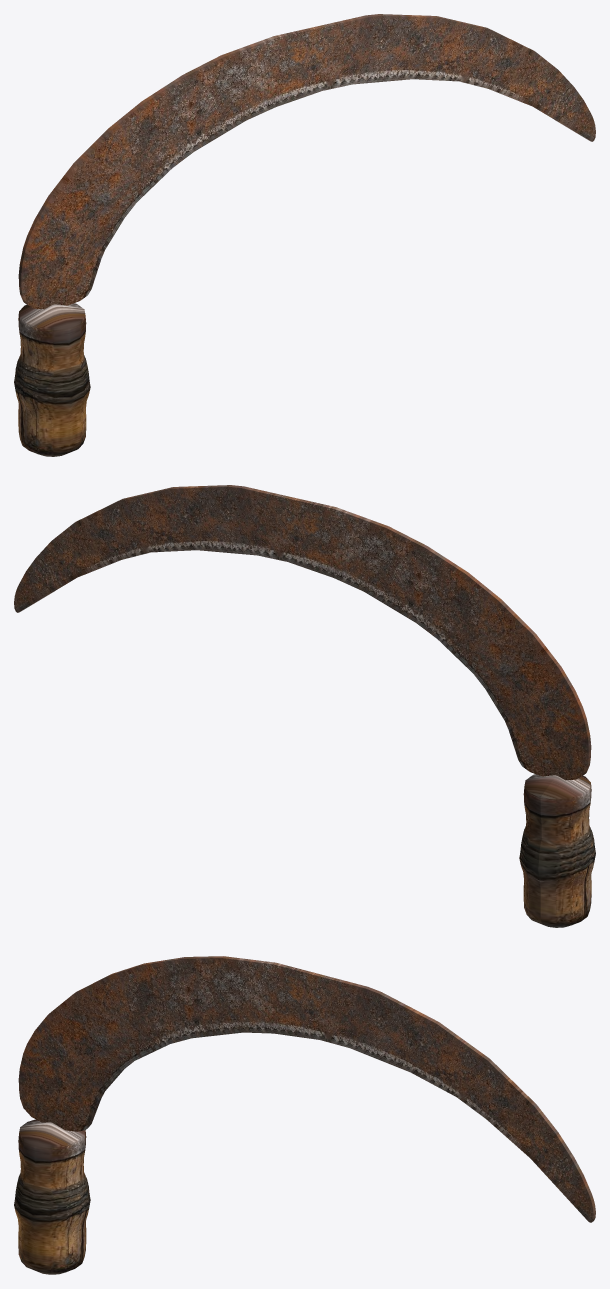
Rendered from sickle_p1_w2.glb.
3 views of the same model, one above another, from view 1: azimuth 30°, elevation 25°; view 2: azimuth 150°, elevation 25°; view 3: azimuth 330°, elevation 25° (orthographic).
Parts seen in each view (by area): view 1: sickle_p1_w2; view 2: sickle_p1_w2; view 3: sickle_p1_w2.
Boxes of the visible parts, bbox=[...] form: sickle_p1_w2: bbox=[14, 14, 595, 456]; sickle_p1_w2: bbox=[14, 485, 595, 927]; sickle_p1_w2: bbox=[14, 956, 595, 1274].
Bounding box in the file's own units: 0.4149 × 0.2506 × 0.0484.
1 material, 1 textured.
